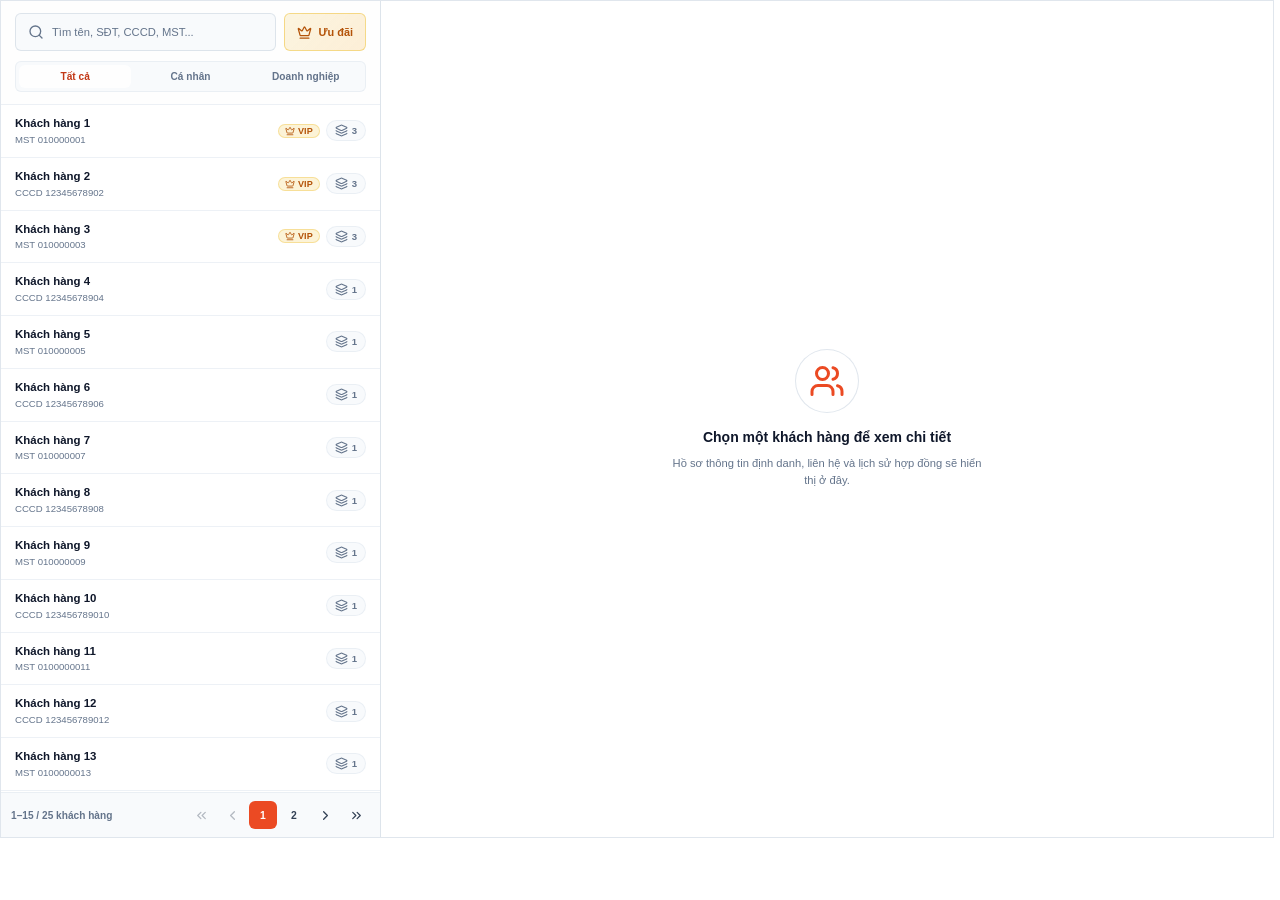
Test: CustomerDirectory with toolbar Loyalty button and pagination › shows toolbar "Ưu đãi" button for director and opens modal on click
Expected: the text "Khách hàng 1" is shown, [15,117,90,129]
# Click to open modal
Click the button "Ưu đãi" at point(325, 32), box [284,13,366,51]
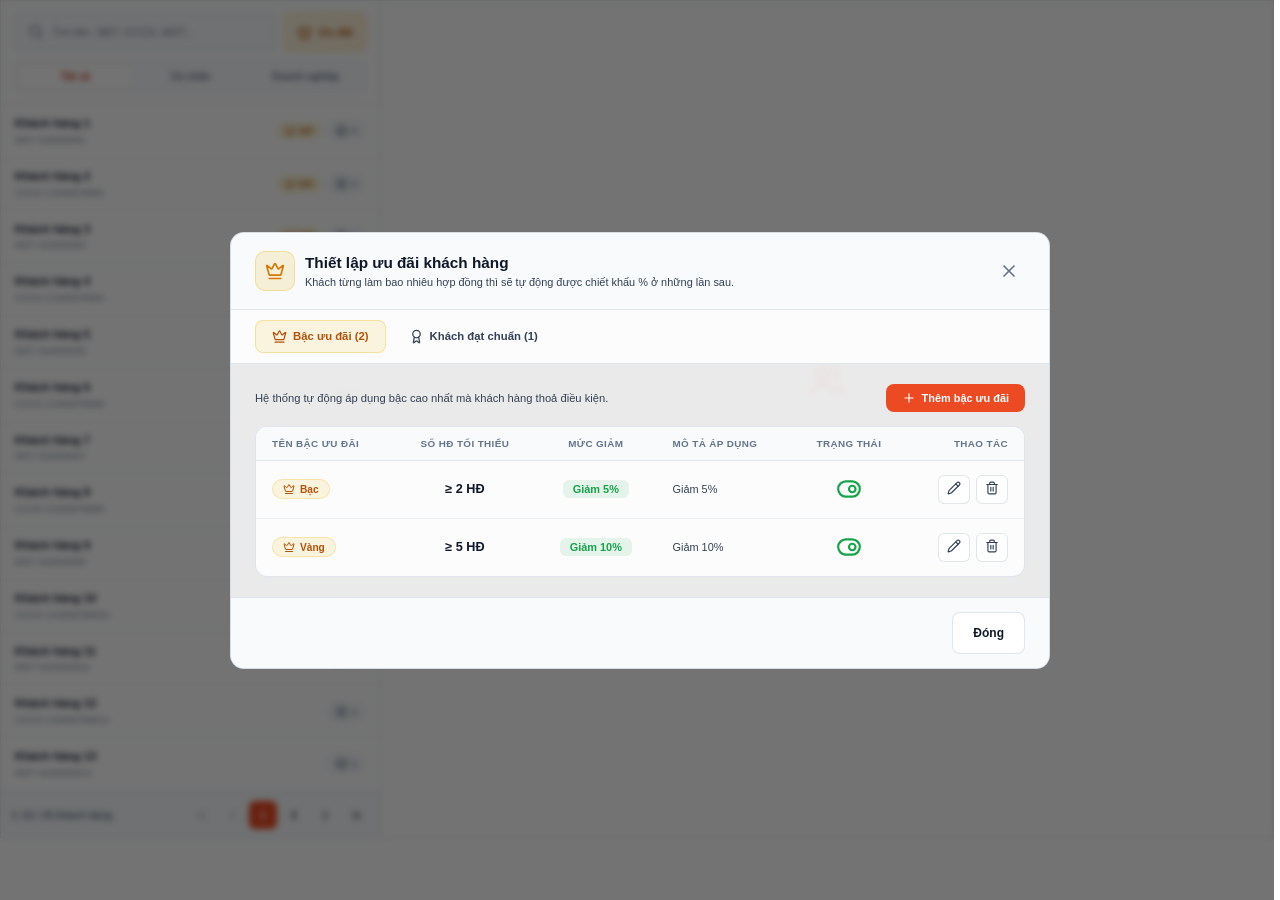
Expected: the heading "Thiết lập ưu đãi khách hàng" is shown, [305,254,509,270]
Expected: the button "Bậc ưu đãi (2)" is shown, [255,320,386,352]
Expected: the text "Bạc" is shown, [272,479,330,499]
# Close modal
Click the button named "Đóng" at point(1009, 270), box [993,254,1025,286]
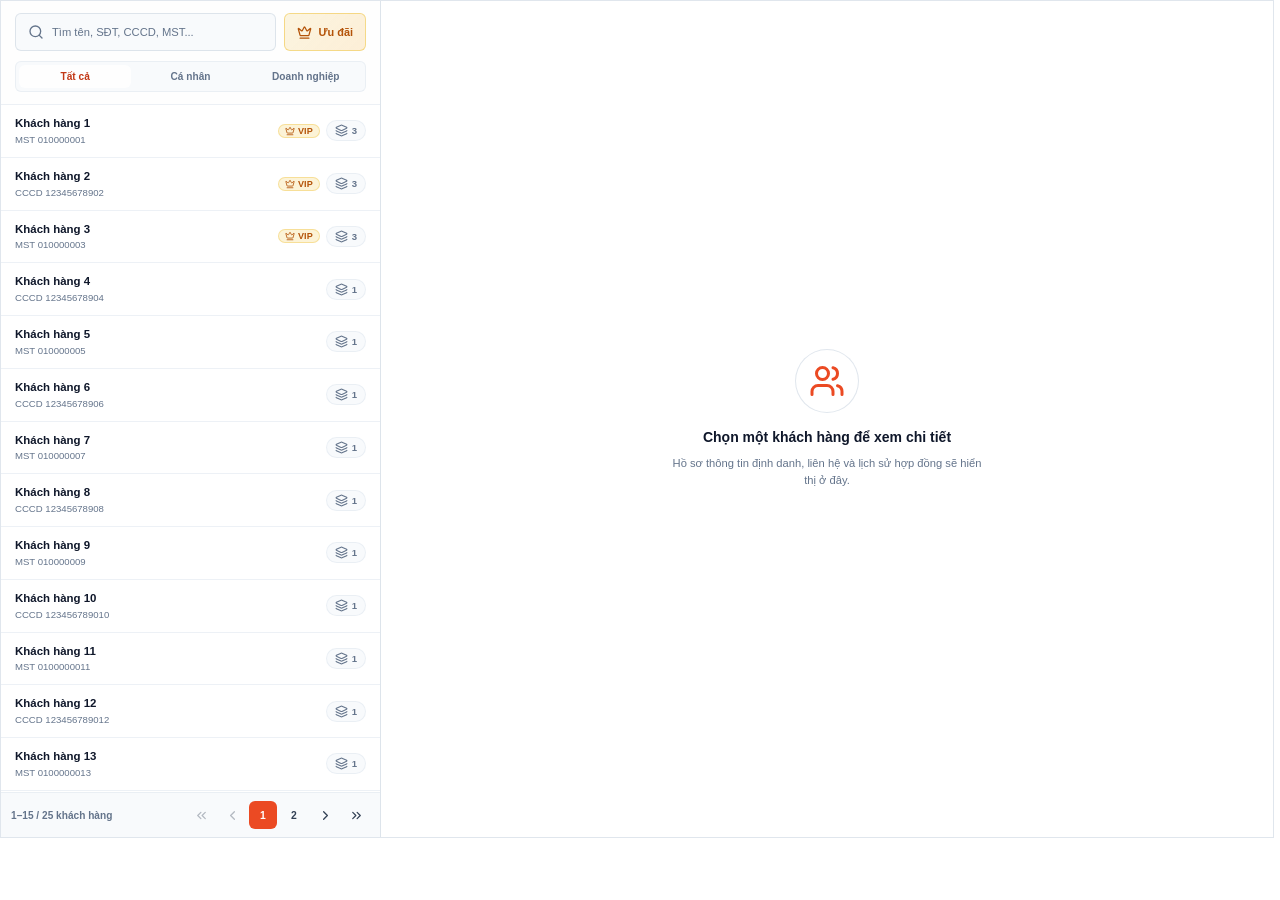
Expected: the heading "Thiết lập ưu đãi khách hàng" is gone
